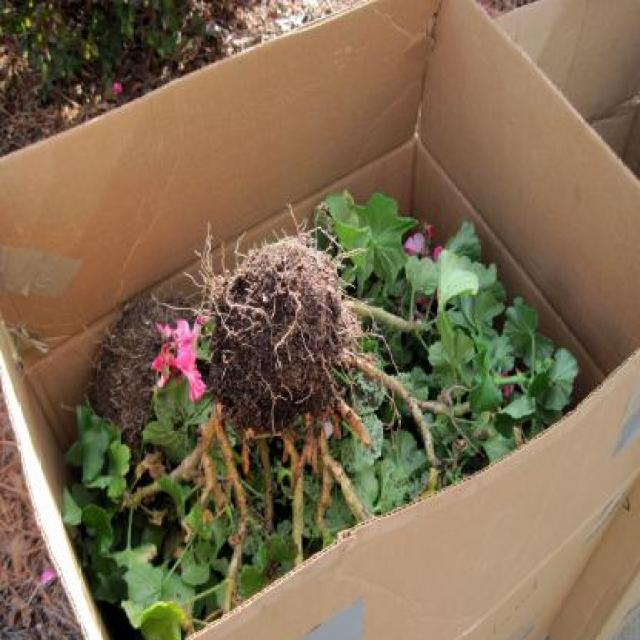box: (1, 3, 638, 640)
